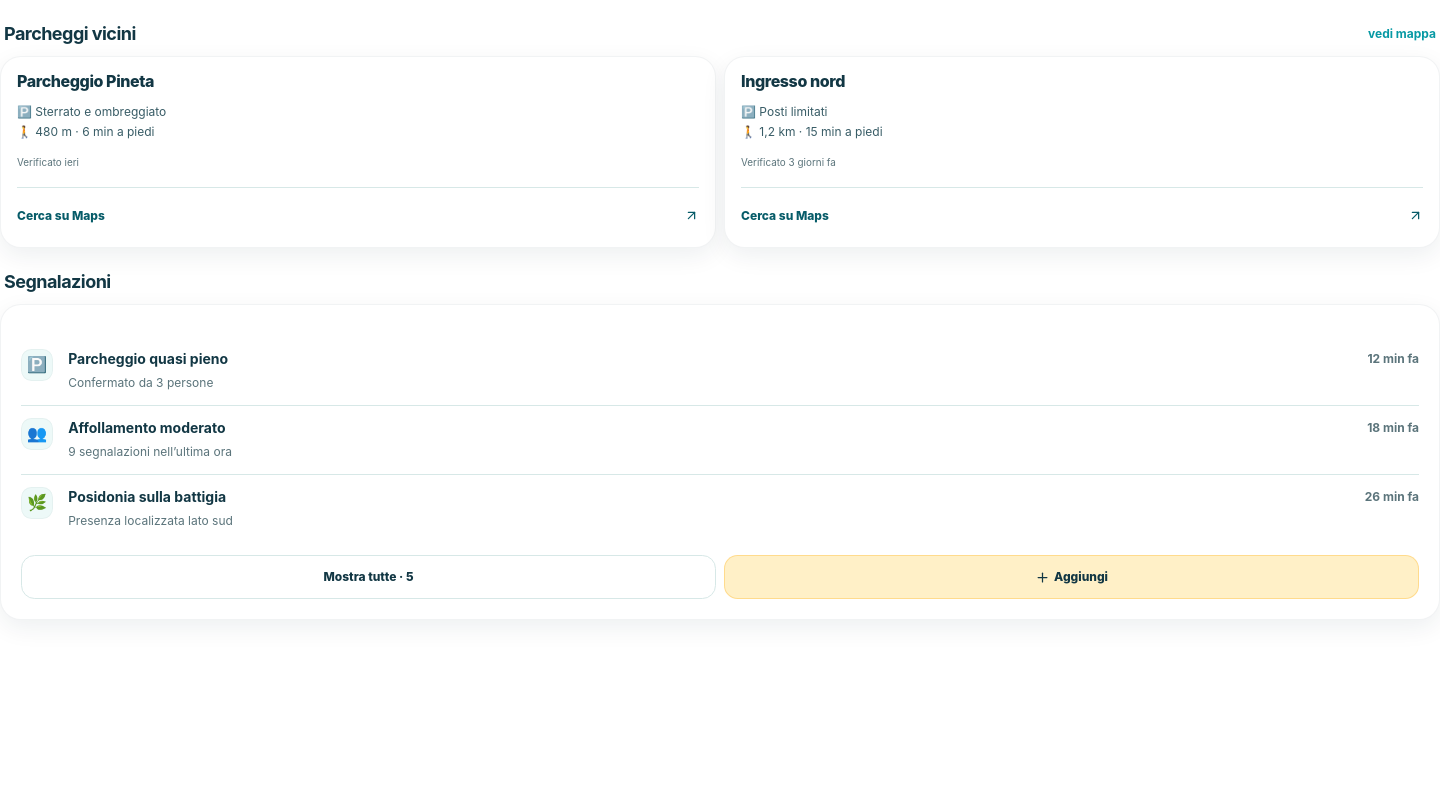
BeachLiveSections › shows the server rate-limit message when the anonymous daily allowance is exhausted
Click the button "Aggiungi".
click(1072, 577)  # box x1=724 y1=555 x2=1419 y2=599
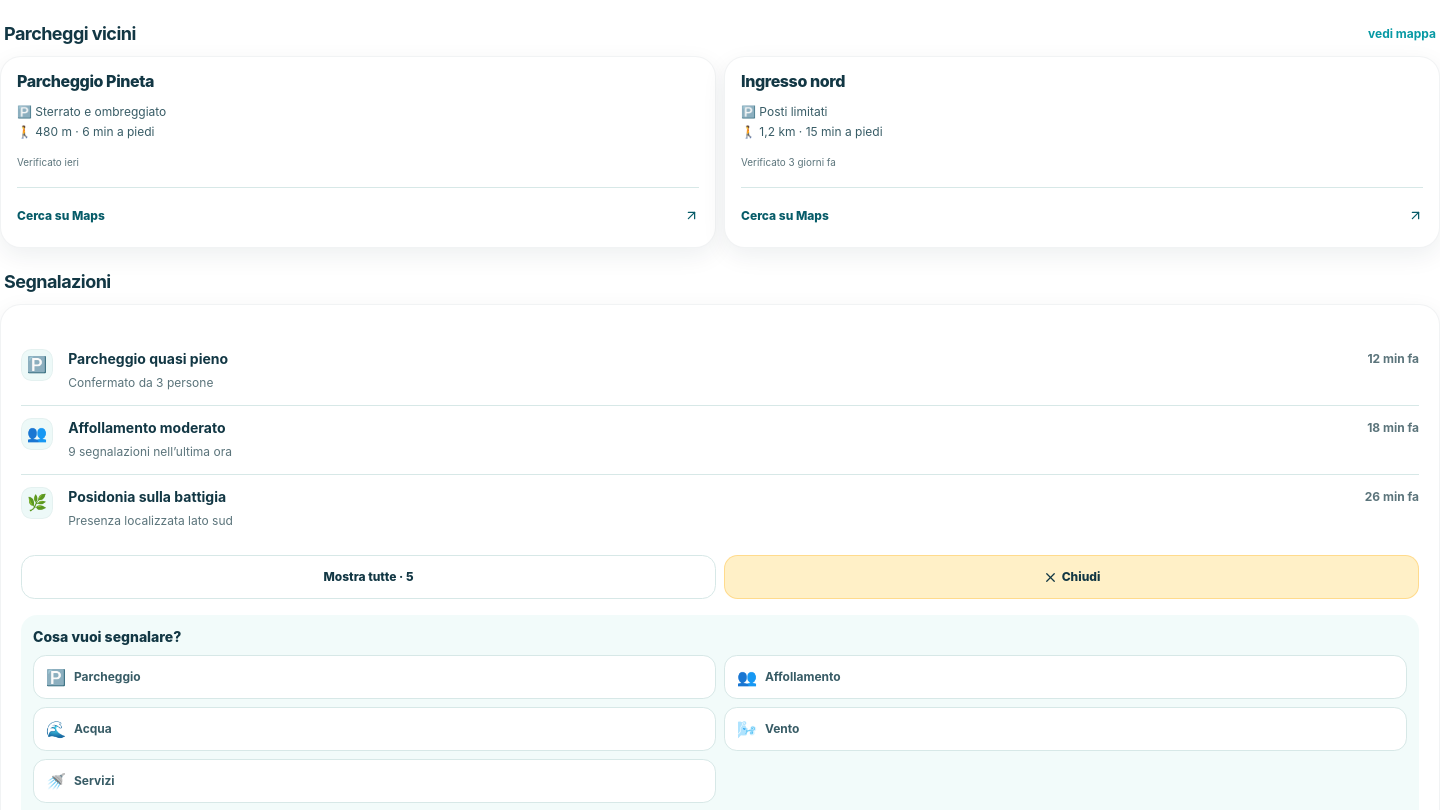
Click the radio button labelled "Acqua".
click(93, 728)  # box x1=33 y1=707 x2=716 y2=751
(page scrolled)
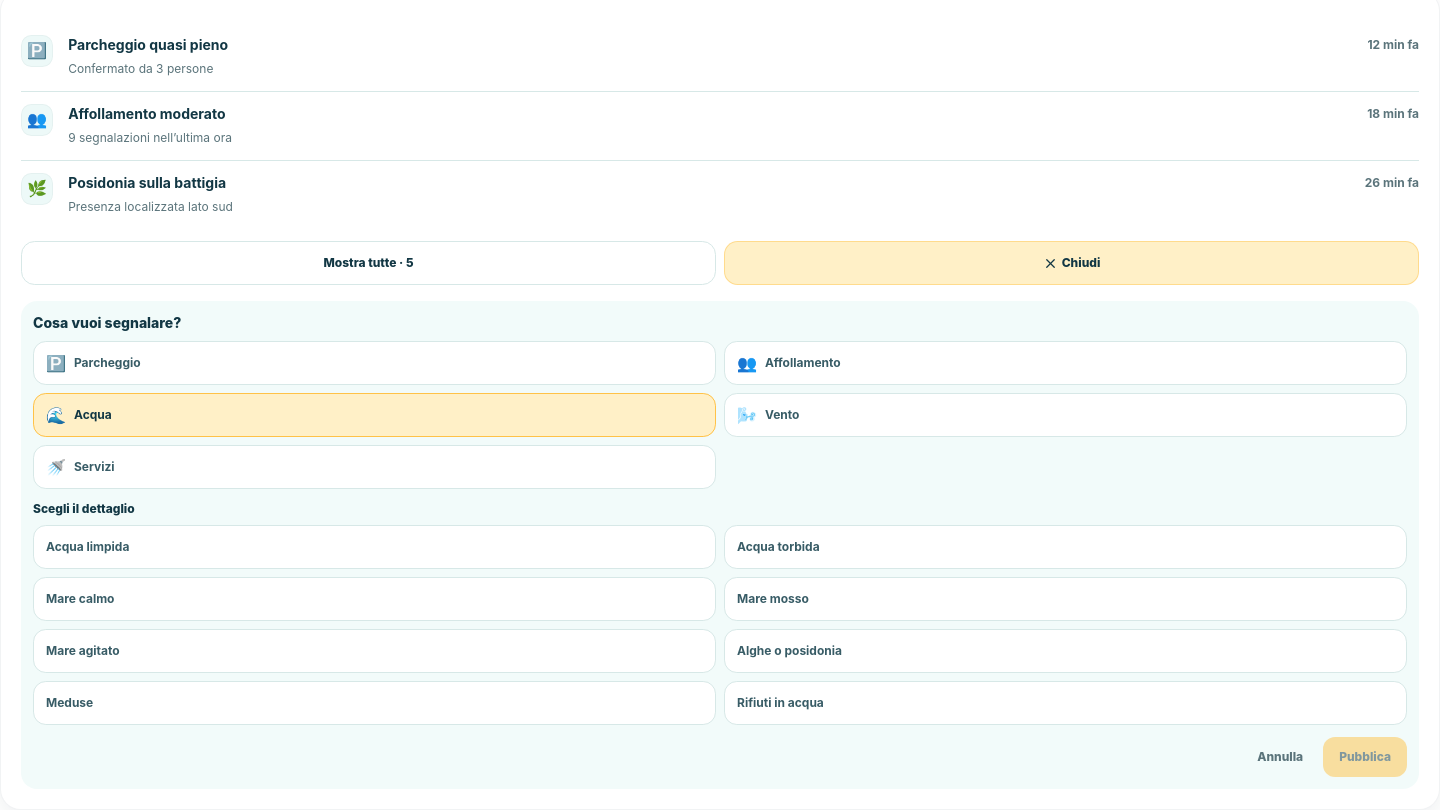
Click the radio button labelled "Mare mosso".
click(773, 598)  # box x1=724 y1=577 x2=1407 y2=621
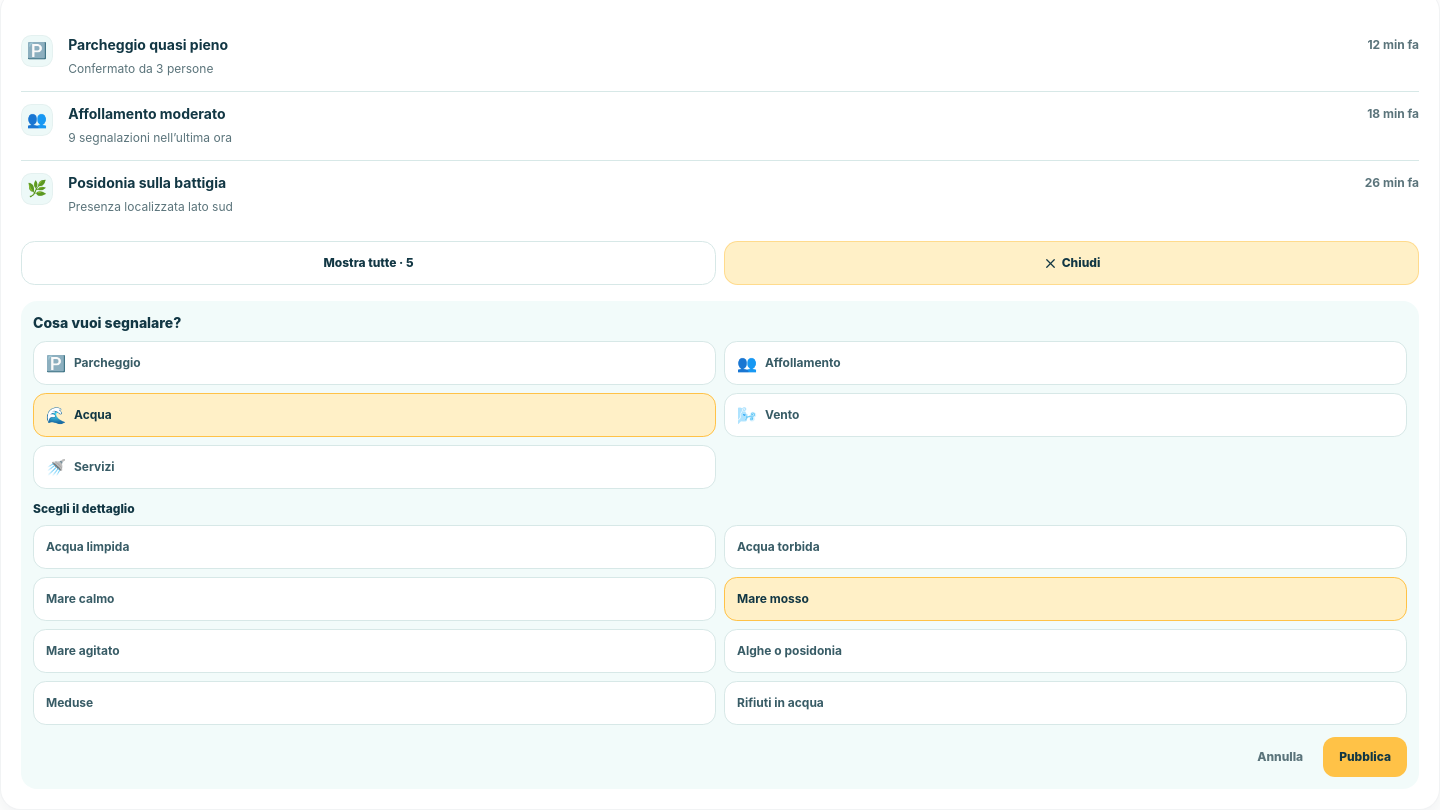
Click the button "Pubblica".
click(1365, 757)  # box x1=1323 y1=737 x2=1407 y2=777
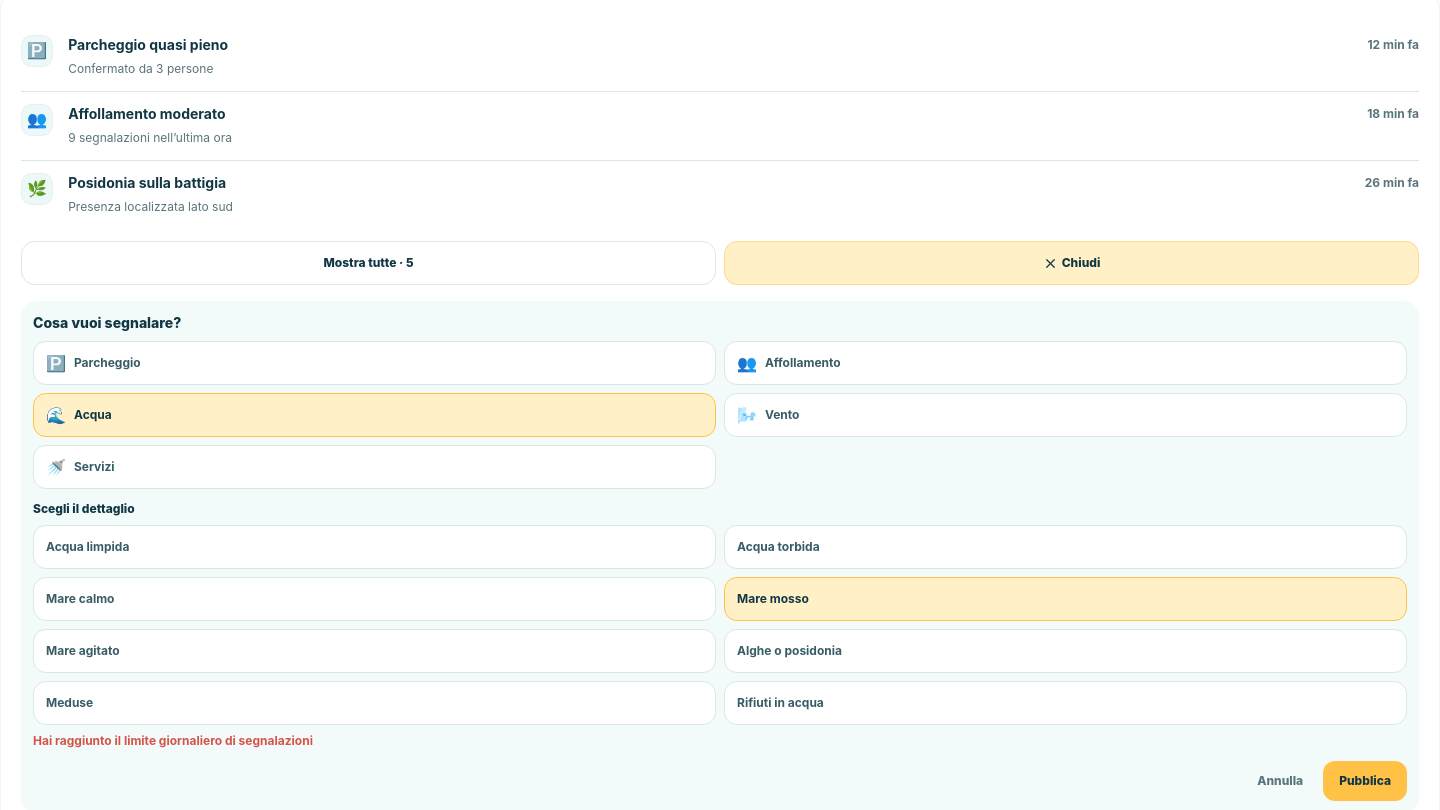
Expected: the message reads "Hai raggiunto il limite giornaliero di segnalazioni", x1=33 y1=733 x2=313 y2=748
